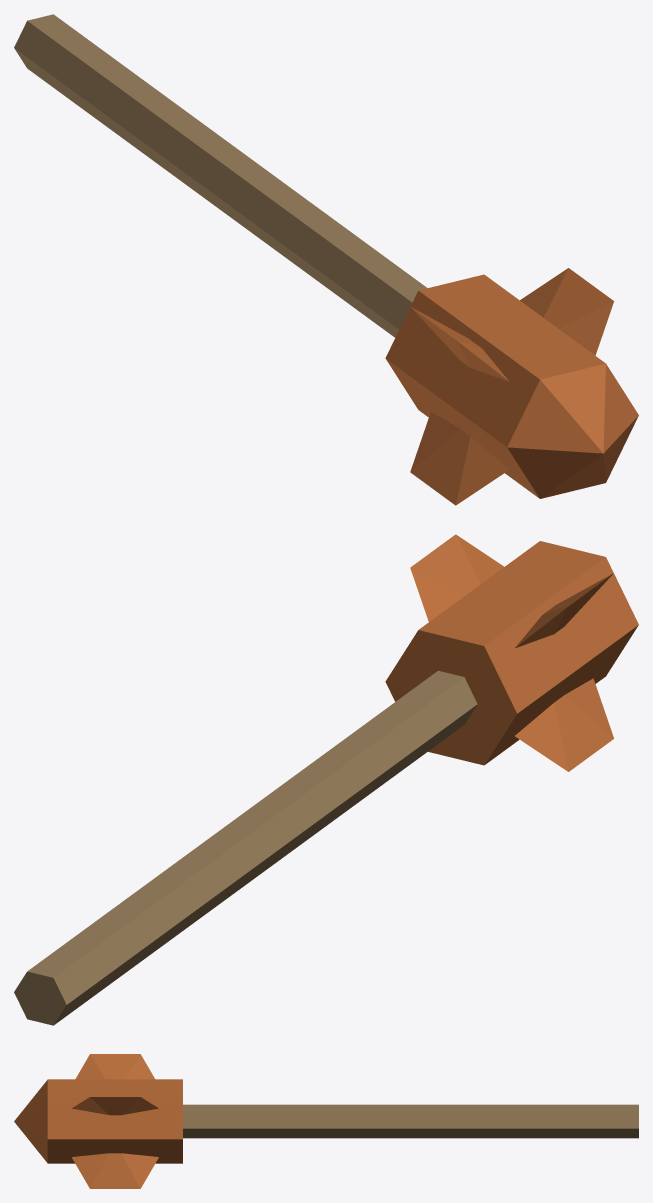
Rendered from Mace.fbx.
3 renders of one model, top to bottom at view 1: azimuth 30°, elevation 25°; view 2: azimuth 150°, elevation 25°; view 3: azimuth 270°, elevation 25°, orthographic. The views are drawn at different scales.
Visible parts, largest first — view 1: Mace; view 2: Mace; view 3: Mace.
Part boxes in pixels (box(x1,y1,x2,y2)): Mace: box(14, 14, 638, 505); Mace: box(14, 534, 638, 1025); Mace: box(14, 1054, 638, 1188).
Size of the model in its own units: 0.1202 by 0.1202 by 0.74.
